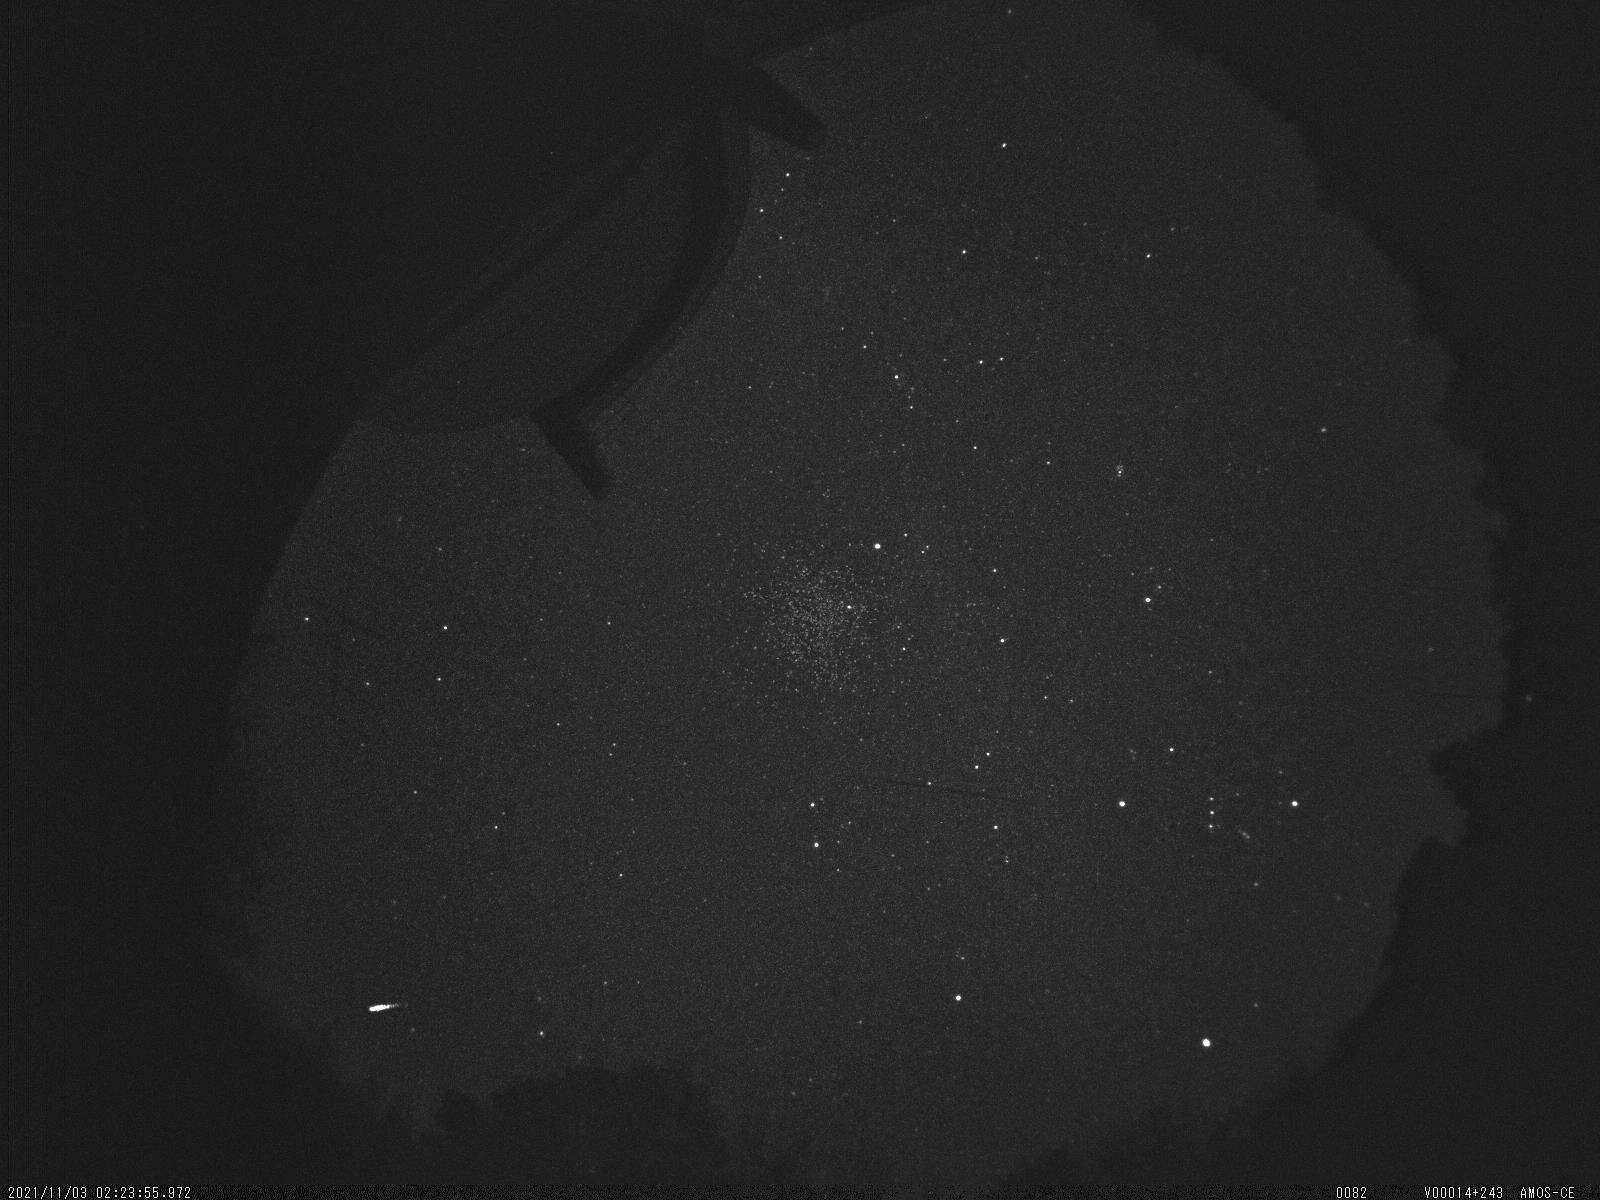Meteor: (362, 995, 410, 1023)
